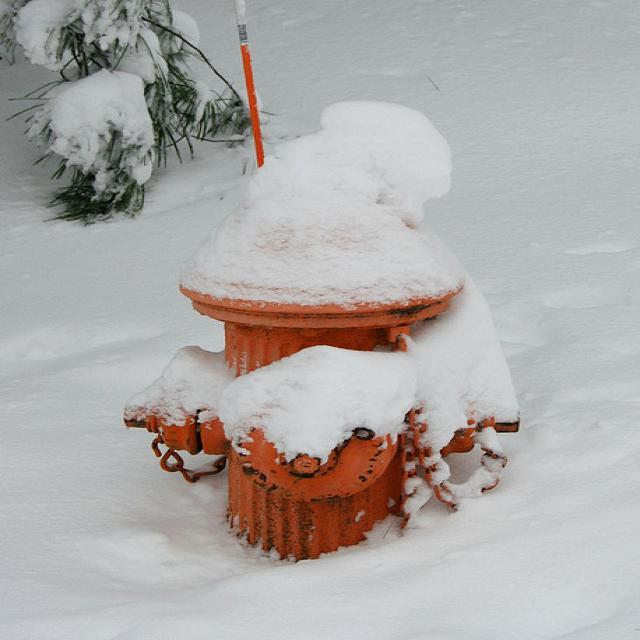fire_hydrant: (127, 103, 513, 570)
